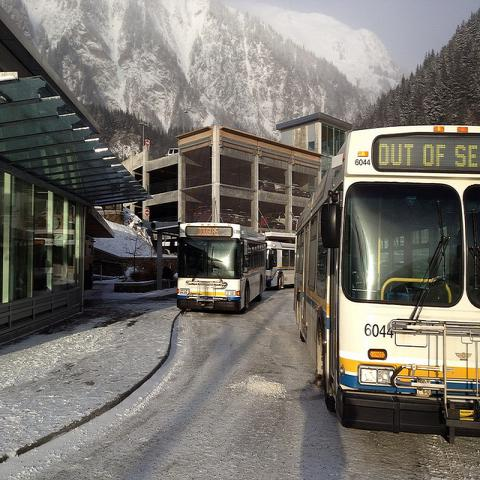bus: (292, 119, 480, 434), (176, 224, 270, 317), (270, 241, 294, 290)
